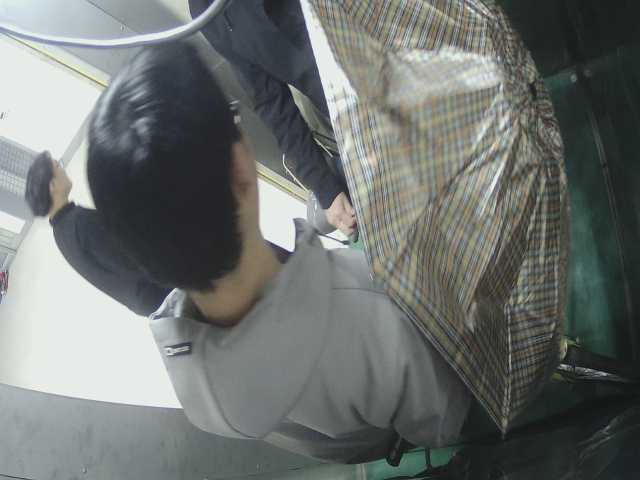person: (89, 51, 490, 459), (185, 2, 407, 225), (21, 146, 167, 322)
